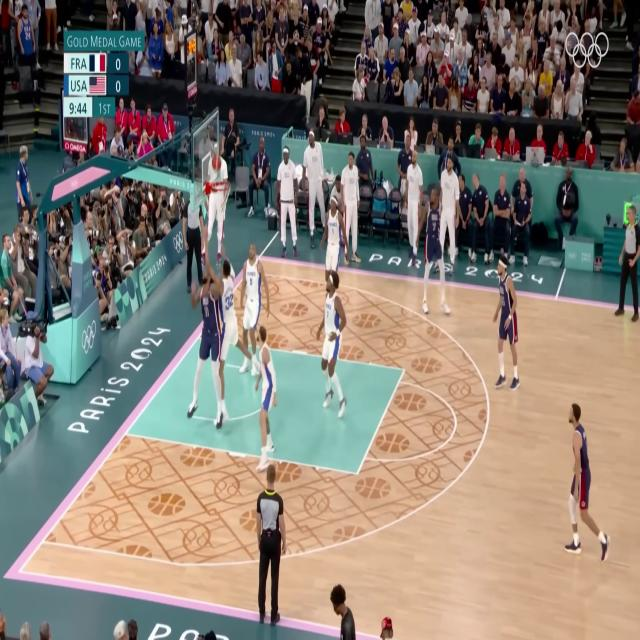player: (563, 402, 613, 562), (310, 272, 353, 430), (210, 248, 246, 400), (247, 317, 282, 469), (417, 189, 455, 325), (237, 236, 273, 379), (489, 254, 523, 395), (195, 264, 224, 426), (314, 191, 352, 300)
